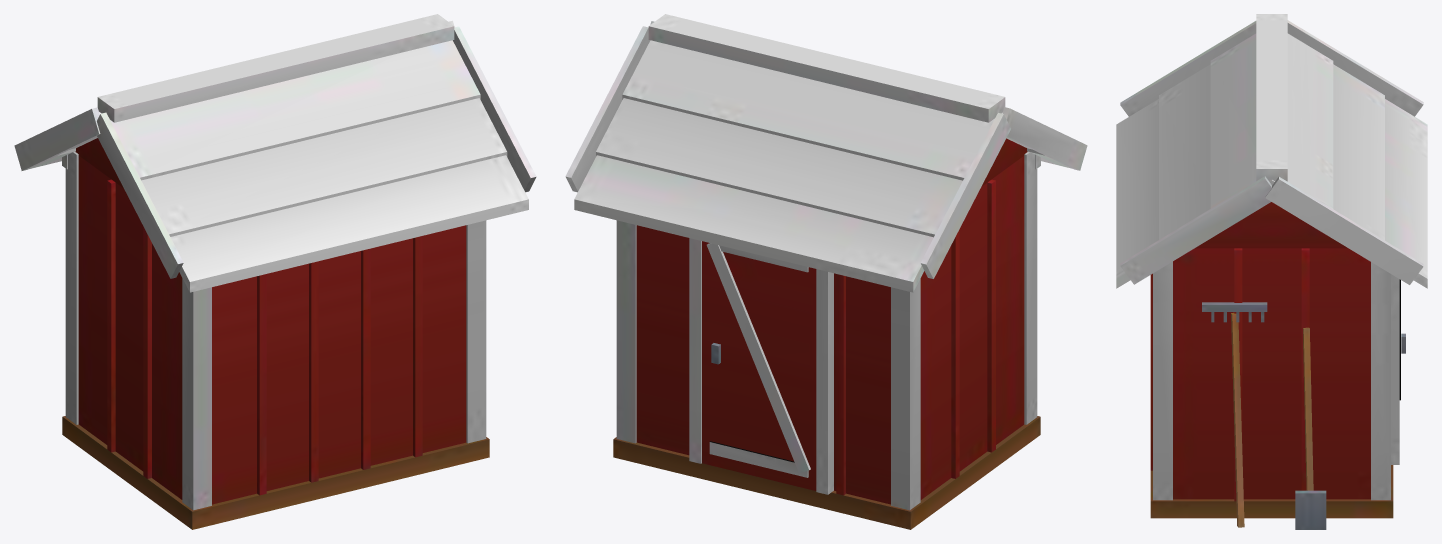
File: storehouse_1.glb
3 renders of one model, left to right at view 1: azimuth 30°, elevation 25°; view 2: azimuth 150°, elevation 25°; view 3: azimuth 270°, elevation 25°, orthographic. The views are drawn at different scales.
Visible parts, largest first — view 1: shed1_red; view 2: shed1_red, door; view 3: shed1_red.
Part boxes in pixels (x1,y1,x2,y2): shed1_red: (14, 14, 536, 529); shed1_red: (565, 14, 1087, 529); door: (702, 241, 816, 490); shed1_red: (1116, 14, 1427, 529).
Bounding box in the file's own units: 2.5 × 2.55 × 2.
Materials: 5 (5 with a texture image).
